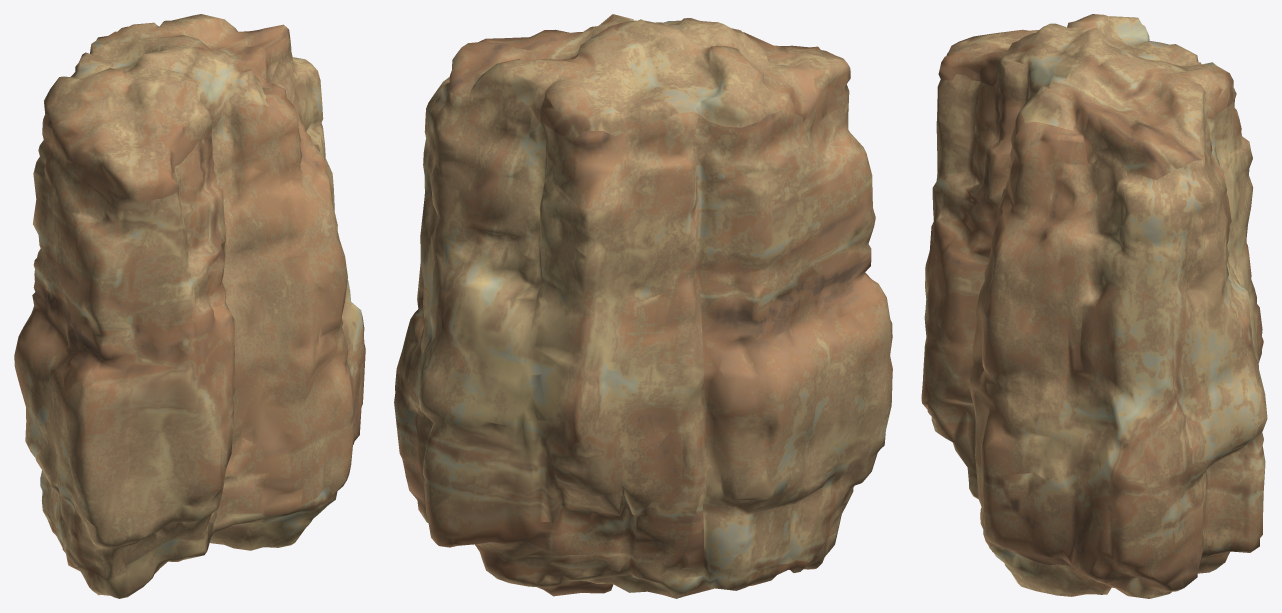
File: DestRock_Tall.fbx
3 renders of one model, left to right at view 1: azimuth 30°, elevation 25°; view 2: azimuth 150°, elevation 25°; view 3: azimuth 270°, elevation 25°, orthographic. The views are drawn at different scales.
Visible parts, largest first — view 1: HL_Desert_Rock_Tall_A.001; view 2: HL_Desert_Rock_Tall_A.001; view 3: HL_Desert_Rock_Tall_A.001.
Boxes of the visible parts, x1,y1,x2,y2 form: HL_Desert_Rock_Tall_A.001: (14,14,365,598); HL_Desert_Rock_Tall_A.001: (394,14,892,598); HL_Desert_Rock_Tall_A.001: (921,14,1267,598).
Bounding box in the file's own units: 5551 × 7310 × 4480.
1 material, 1 textured.
